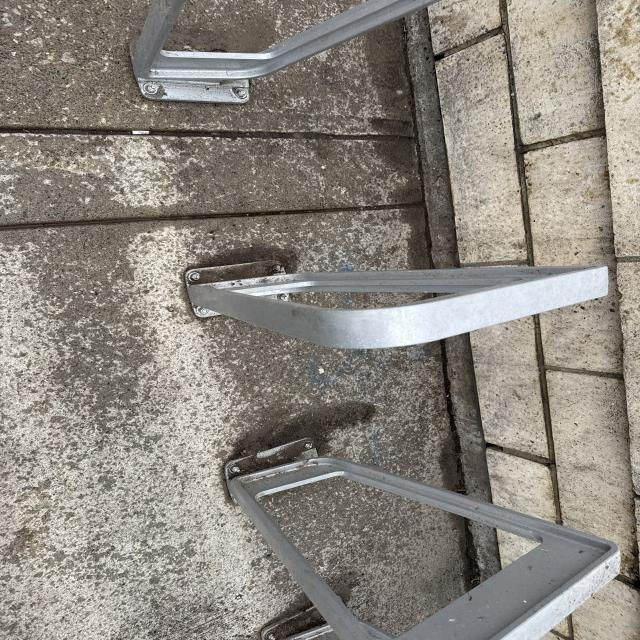Bicycle Rack: (226, 438, 620, 636), (182, 253, 611, 352), (123, 0, 440, 108)
